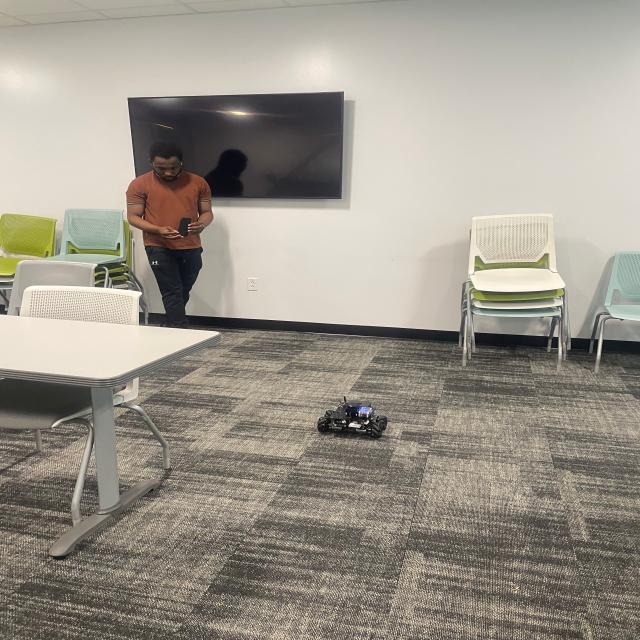ArduinoCar3: (318, 400, 390, 444)
